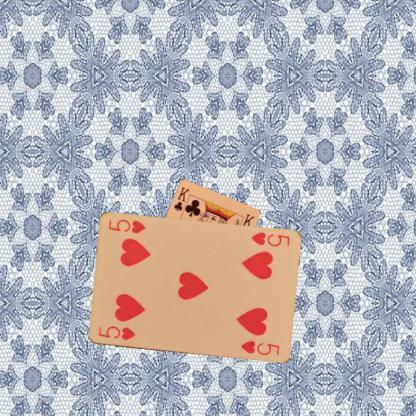5h: (248, 230, 290, 248), (96, 323, 136, 341)
Kc: (171, 185, 191, 213)
